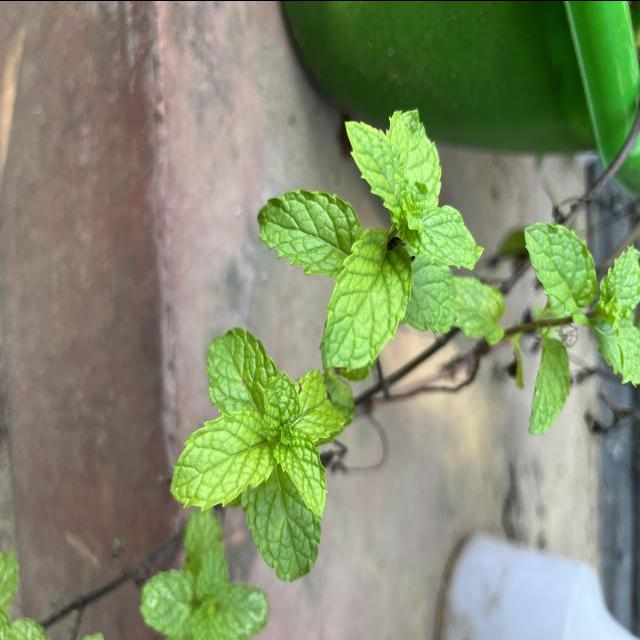Mentha spicata: (320, 226, 418, 374), (168, 409, 280, 513), (256, 187, 362, 278), (204, 324, 280, 414), (270, 426, 330, 520)
